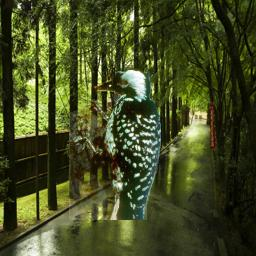Woodpecker: (69, 65, 161, 220)
